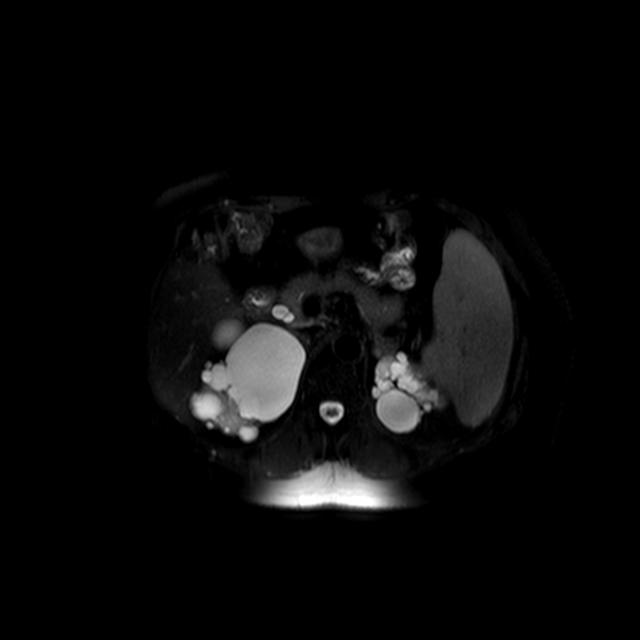sag: (189, 318, 306, 443)
sol: (372, 353, 450, 432)
